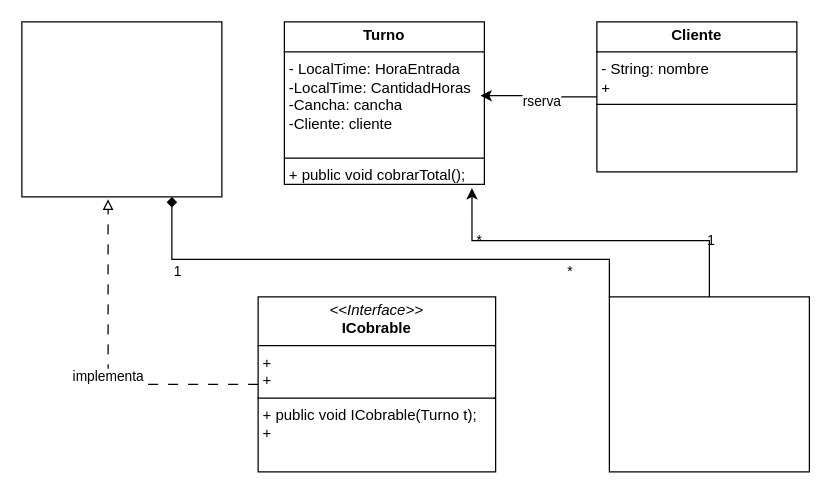
This 831x494 diagram has some shape labels left out. The box of each missing label's shape, as (x1, y1, x2, y2) in pixels:
Cancha -int:Numero; -Float: Tarifa; +: (608, 296, 809, 472)
CompejoCanch + List<canchas> + public void ICobrable();: (21, 21, 222, 197)
